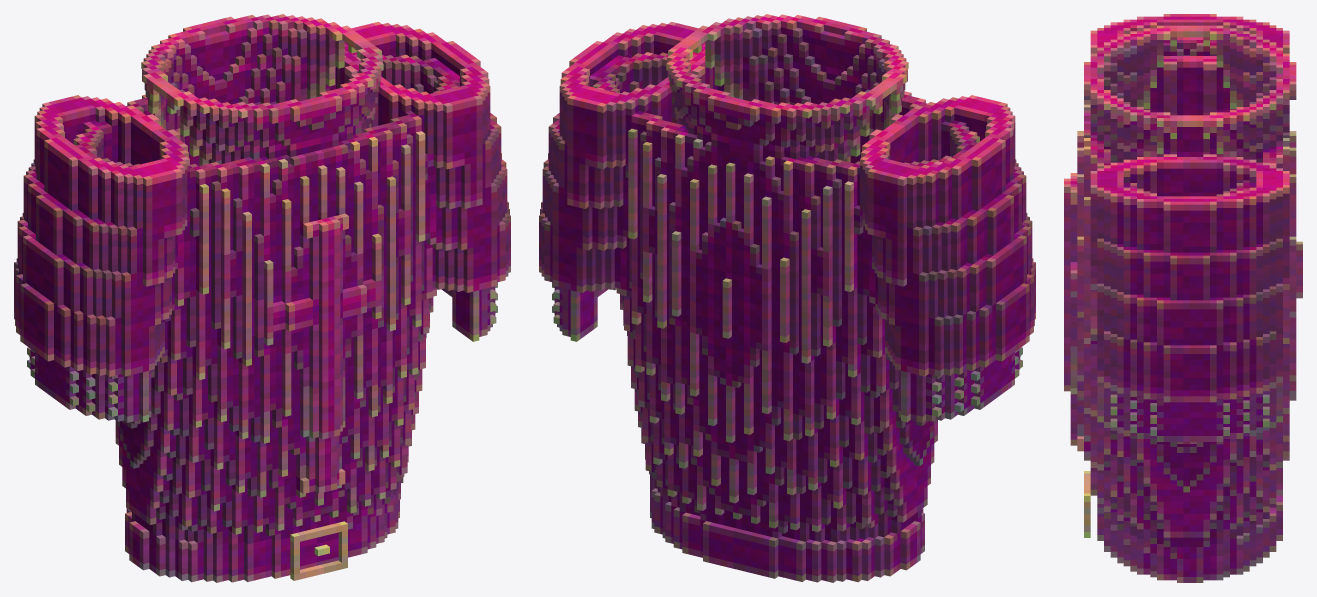
Rendered from armor_set1_chest.glb.
The picture shows the model from 3 angles, left to right: view 1: azimuth 30°, elevation 25°; view 2: azimuth 150°, elevation 25°; view 3: azimuth 270°, elevation 25°; orthographic projection. The views are drawn at different scales.
Visible parts, largest first — view 1: Set1_FlutedInquisitorChest_7mm; view 2: Set1_FlutedInquisitorChest_7mm; view 3: Set1_FlutedInquisitorChest_7mm.
Boxes of the visible parts, x1,y1,x2,y2 form: Set1_FlutedInquisitorChest_7mm: [14, 14, 510, 582]; Set1_FlutedInquisitorChest_7mm: [539, 14, 1035, 582]; Set1_FlutedInquisitorChest_7mm: [1064, 14, 1302, 582].
Size of the model in its own units: 0.532 by 0.525 by 0.252.
